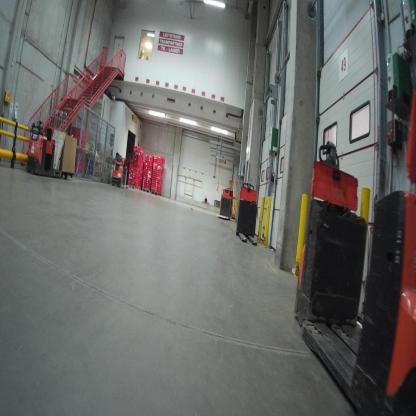pallet: (126, 183, 140, 190), (150, 189, 162, 195), (142, 187, 150, 194), (139, 186, 142, 192)
pallet_truck: (300, 70, 416, 412), (294, 123, 380, 346), (25, 116, 67, 181), (235, 181, 262, 251), (216, 181, 235, 230), (107, 151, 127, 190)
